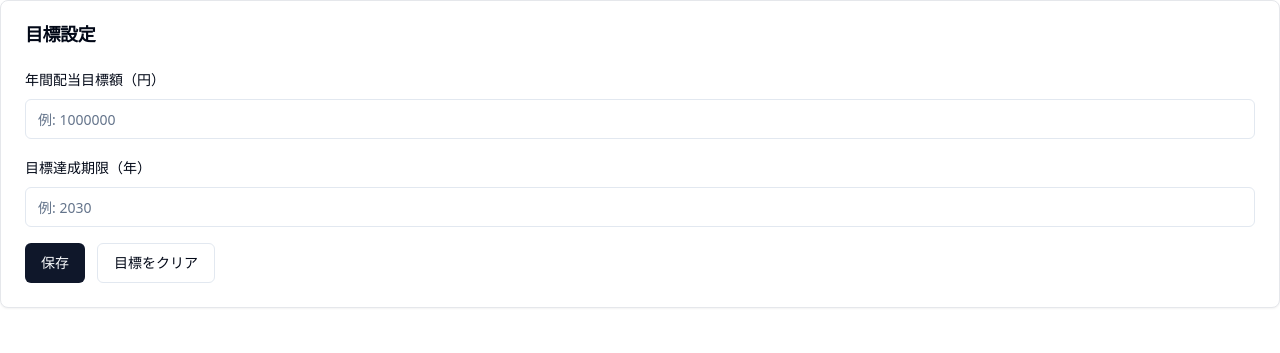
Test: GoalForm › タスク3.2: フォームバリデーション › 期限年に現在年より前の値が入力された場合、エラーメッセージを表示する
The width and height of the screenshot is (1280, 353).
Step 1. Type "2020" into the number field labelled "目標達成期限（年）" → (640,207), box [25,187,1255,227]
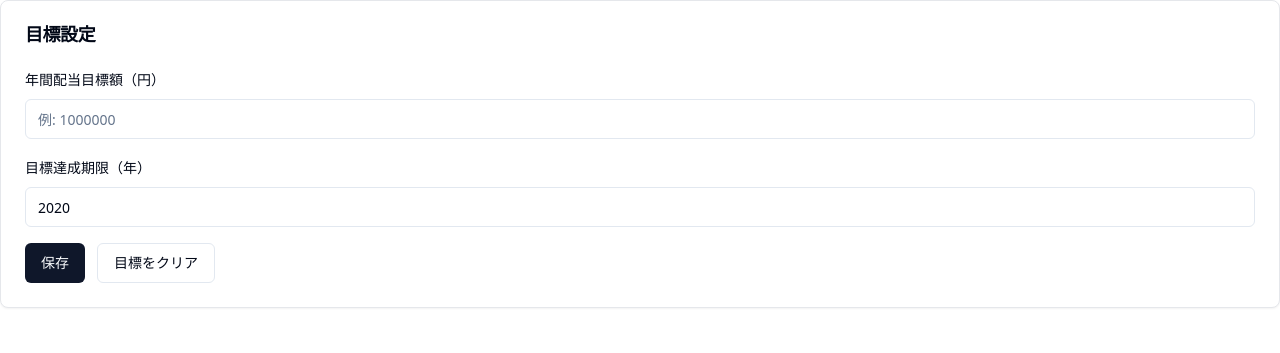
Step 2. Click the button "保存" → (55,263), box [25,243,85,283]
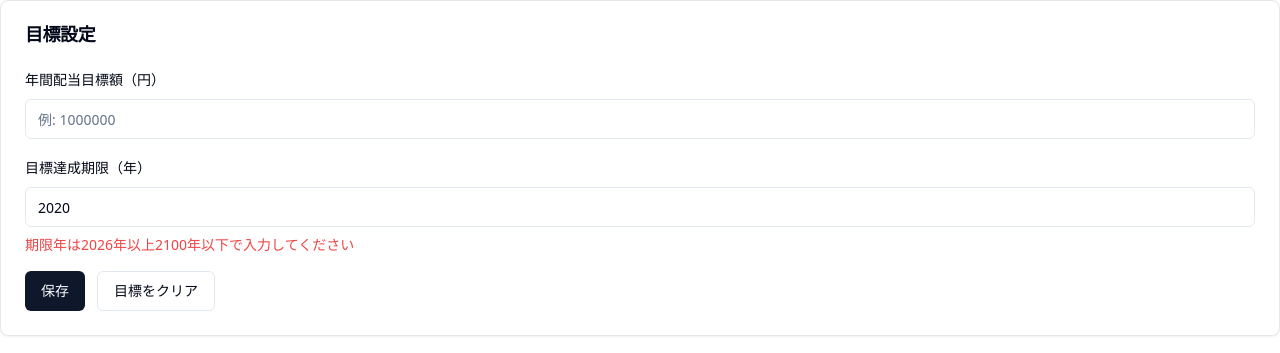
Result: the text "期限年は2026年以上2100年以下で入力してください" is shown at [25,235,354,254]
